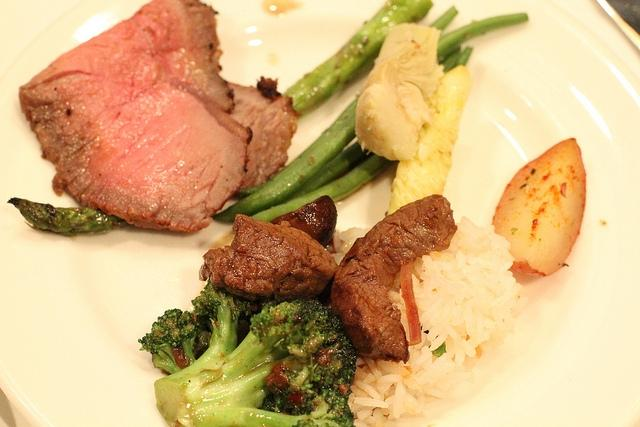asparagus: (251, 46, 473, 222), (279, 45, 462, 204), (212, 96, 358, 224), (7, 196, 133, 235), (436, 13, 530, 64)
broccoli: (138, 278, 357, 426)
potato: (493, 138, 587, 276)
